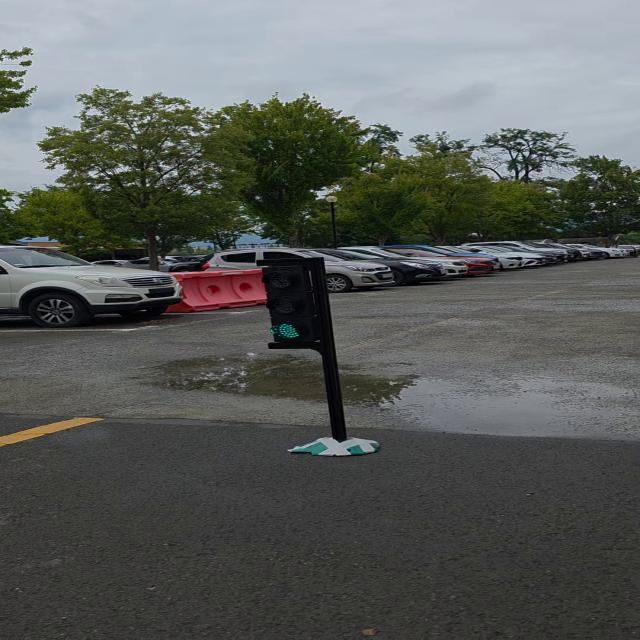green: (258, 257, 330, 348)
